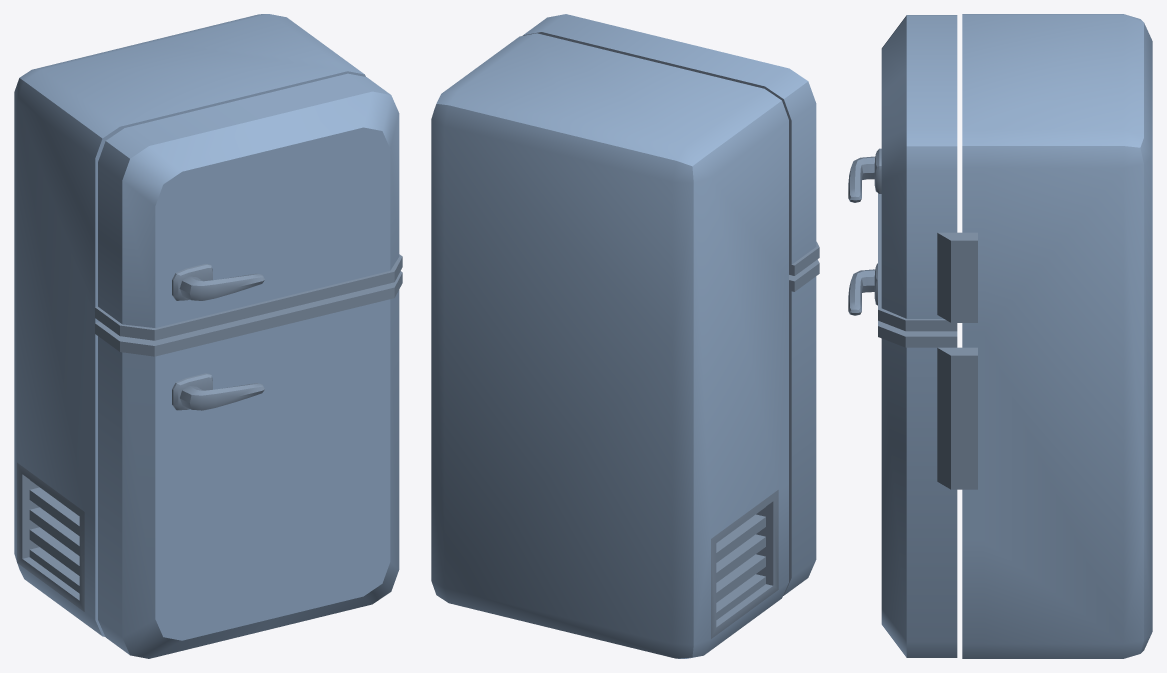
Rendered from quaternius-sushi-restaurant-environment-fridge.glb.
3 renders of one model, left to right at view 1: azimuth 30°, elevation 25°; view 2: azimuth 150°, elevation 25°; view 3: azimuth 270°, elevation 25°, orthographic. The views are drawn at different scales.
Visible parts, largest first — view 1: Environment_Fridge; view 2: Environment_Fridge; view 3: Environment_Fridge.
Boxes of the visible parts, bbox=[...] form: Environment_Fridge: bbox=[14, 14, 402, 658]; Environment_Fridge: bbox=[431, 14, 819, 658]; Environment_Fridge: bbox=[848, 14, 1152, 658].
Bounding box in the file's own units: 2.52 × 4.18 × 2.18.
Materials: 1 (1 with a texture image).
